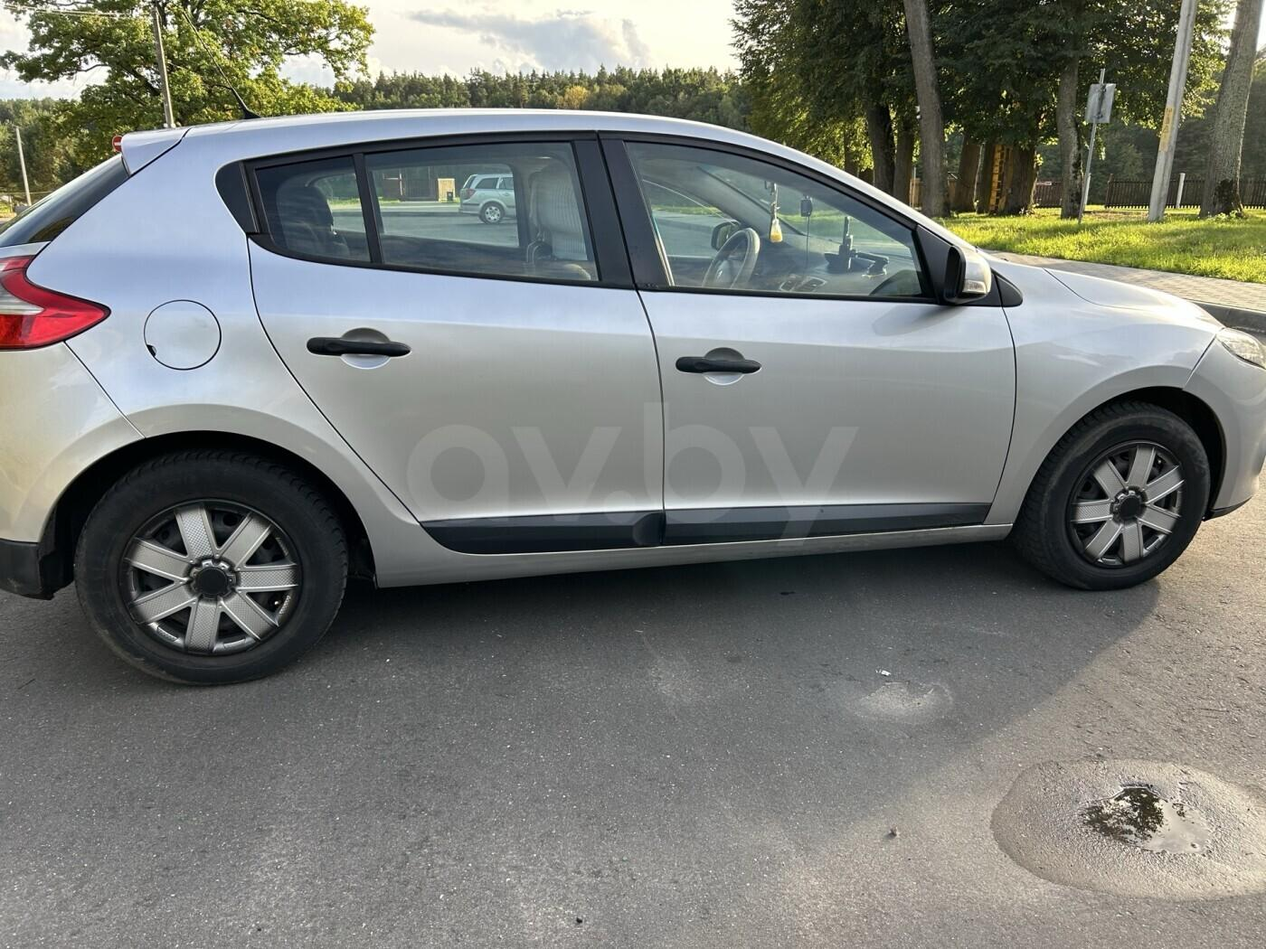Megane_2008-2014: (0, 110, 1266, 687)
